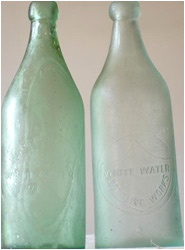emptybottle: (90, 2, 184, 250), (1, 2, 86, 250)
